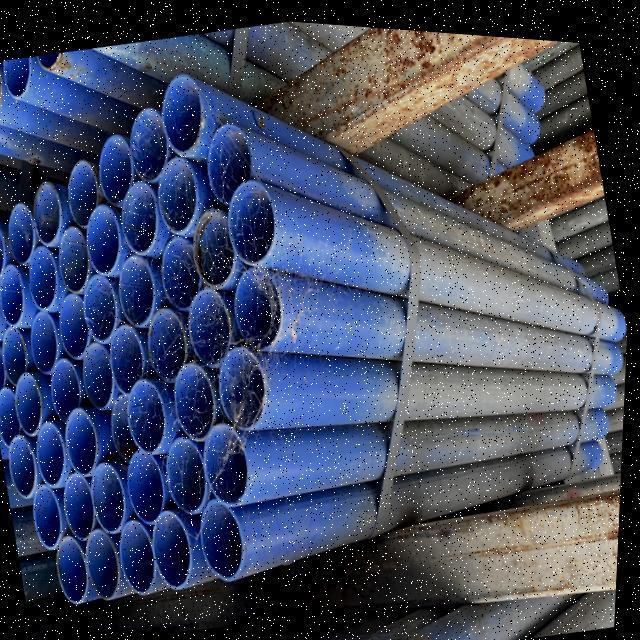pipe: (233, 263, 285, 349), (188, 283, 242, 364), (205, 120, 256, 205), (230, 174, 279, 259), (218, 342, 267, 426), (161, 227, 203, 318), (152, 501, 197, 585), (205, 420, 253, 498), (204, 495, 249, 578), (192, 200, 237, 282), (130, 100, 175, 181), (159, 154, 205, 233), (149, 298, 193, 380), (174, 359, 220, 436), (122, 509, 164, 593), (127, 374, 171, 452), (162, 72, 205, 151), (168, 433, 211, 510), (68, 155, 107, 239), (115, 255, 159, 328), (100, 127, 136, 216), (90, 459, 130, 539), (128, 450, 169, 528), (87, 199, 130, 273), (122, 176, 161, 254), (54, 219, 94, 293), (66, 461, 100, 547), (108, 322, 147, 396), (52, 350, 85, 434), (82, 272, 120, 343), (82, 340, 118, 412), (58, 286, 91, 364), (64, 408, 101, 477), (6, 199, 41, 270), (58, 534, 94, 602), (30, 180, 65, 247), (16, 370, 47, 445), (112, 391, 142, 466), (31, 310, 65, 376), (28, 243, 60, 310), (36, 486, 68, 551), (93, 529, 123, 595), (38, 424, 68, 486), (0, 261, 27, 327), (3, 324, 31, 387), (13, 434, 40, 498), (0, 383, 26, 443), (6, 58, 29, 101), (0, 274, 11, 346), (0, 221, 10, 281), (0, 338, 10, 396)
